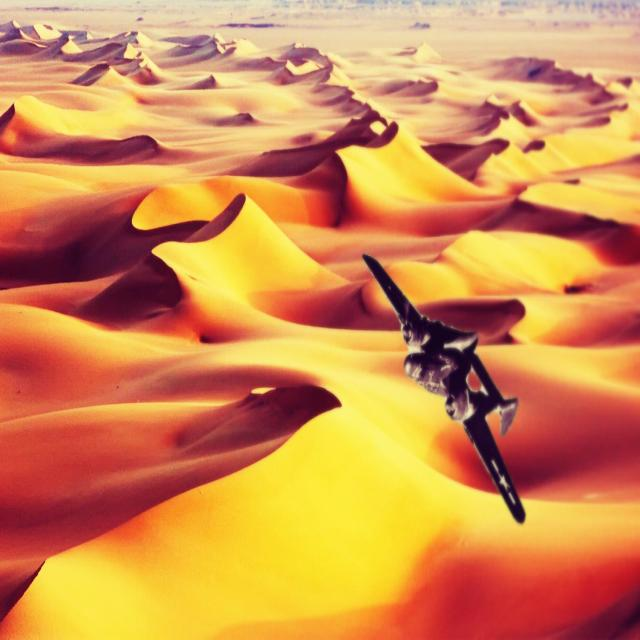airplane: (361, 250, 527, 524)
